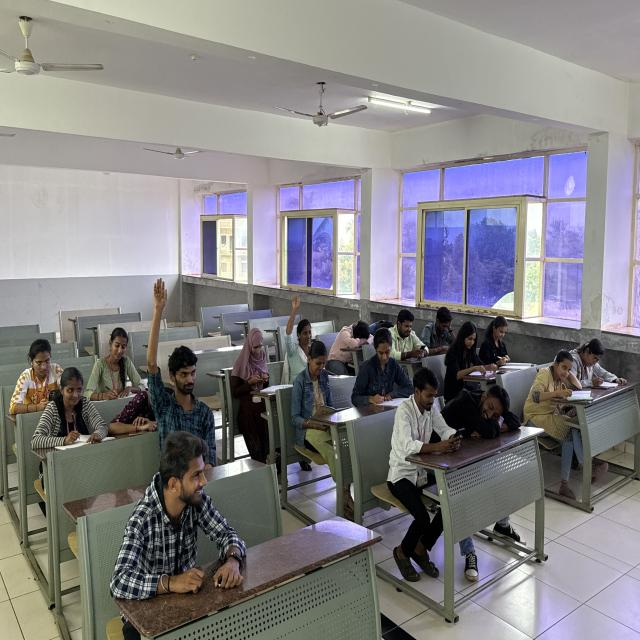Hand Rising: (136, 274, 248, 461), (279, 282, 334, 392)
Using Phone: (386, 360, 472, 495), (1, 330, 58, 492), (220, 298, 282, 406), (376, 268, 436, 373)
Writing: (30, 350, 106, 464), (78, 306, 152, 402), (522, 330, 591, 430), (566, 316, 632, 404), (469, 284, 534, 371), (441, 314, 490, 396)
